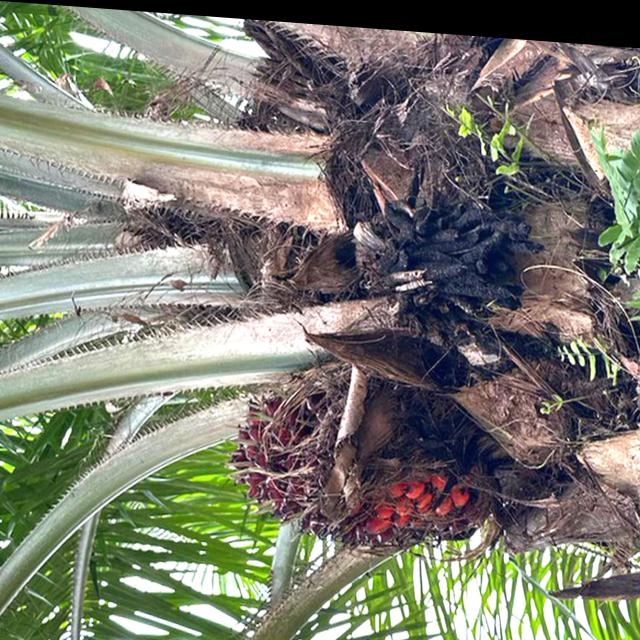ripe: (214, 338, 506, 565)
